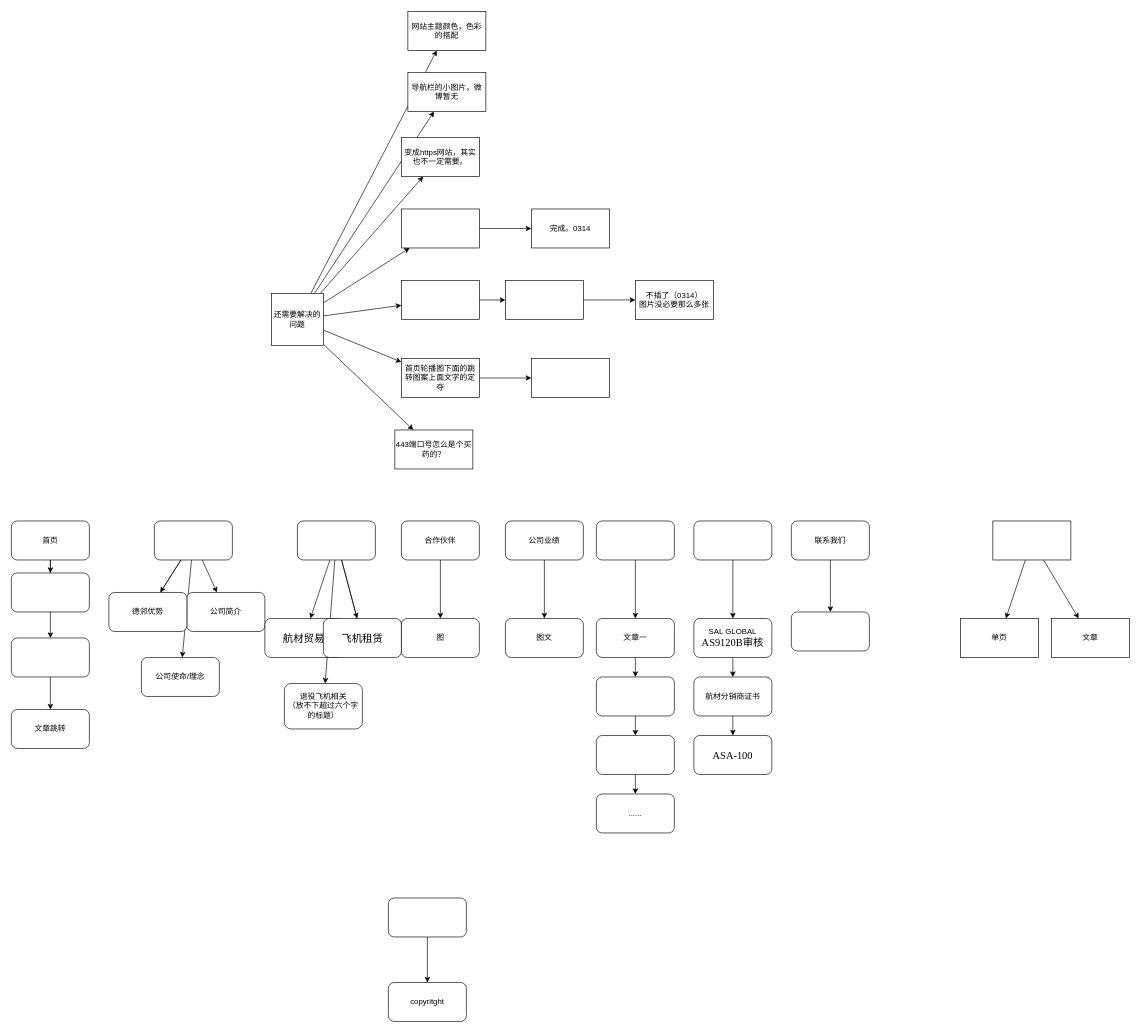
This 1141x1033 diagram has some shape labels left out. The shapes that lost their labels are listed below. From the top down, each one's box as (x1, y1, x2, y2) in pixels, then its label:
(401, 208, 479, 248): head的title里面的图标换成公司的图标
(401, 280, 479, 319): 网站内容还没有填充
(505, 280, 583, 319): 行业资讯中，第六张图片插入不进去
(531, 358, 609, 397): 在高级选项里面修改
(154, 520, 232, 560): 有关德邻
(297, 520, 375, 560): 公司业务
(596, 520, 674, 560): 行业资讯
(693, 520, 772, 560): 企业荣誉/证书
(992, 520, 1071, 560): 类型，就是两个，多的没有相关模板了
(11, 572, 89, 612): 轮播图
(791, 611, 869, 651): 地址，电话，email
(11, 637, 89, 677): 页面跳转
(596, 676, 674, 716): 文章二
(596, 735, 674, 774): 文章三
(388, 897, 466, 937): 网页底部：德邻官网信息
